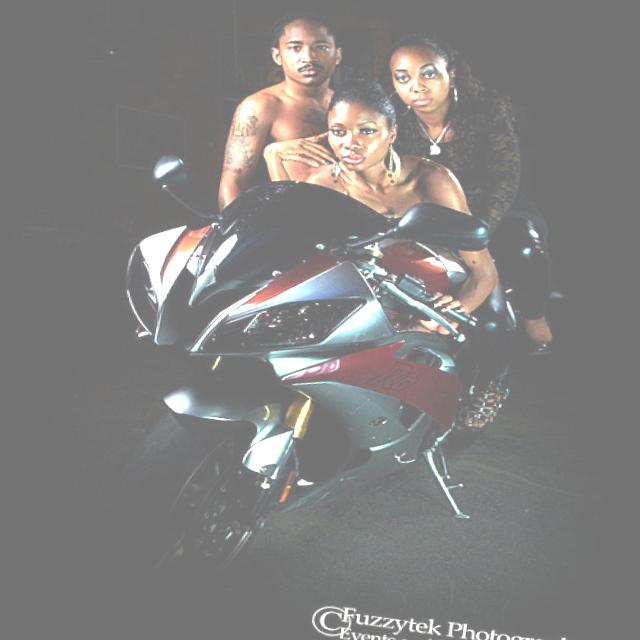Vehicle: (92, 154, 530, 621)
